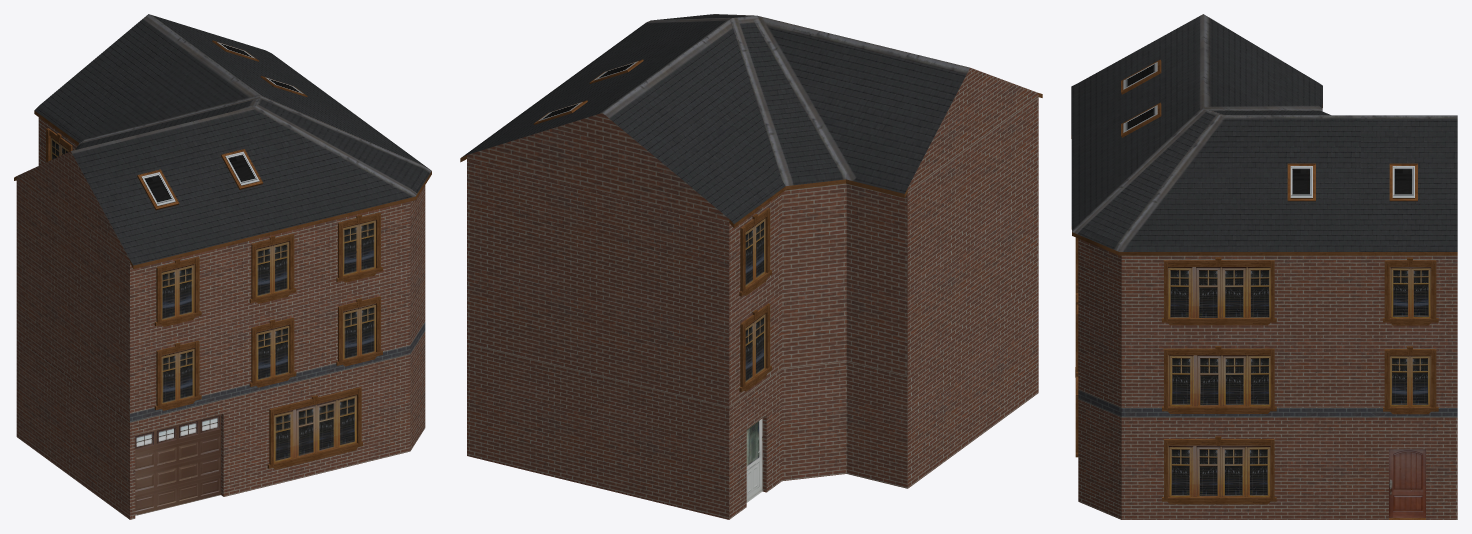
The model's file is terracedcorner3story2.FBX.
3 renders of one model, left to right at view 1: azimuth 30°, elevation 25°; view 2: azimuth 150°, elevation 25°; view 3: azimuth 270°, elevation 25°, orthographic. The views are drawn at different scales.
Visible parts, largest first — view 1: Box004; view 2: Box004; view 3: Box004.
Boxes of the visible parts, bbox=[...] form: Box004: bbox=[14, 14, 431, 519]; Box004: bbox=[460, 14, 1042, 519]; Box004: bbox=[1071, 14, 1457, 519].
Bounding box in the file's own units: 1297 × 1258 × 1280.
